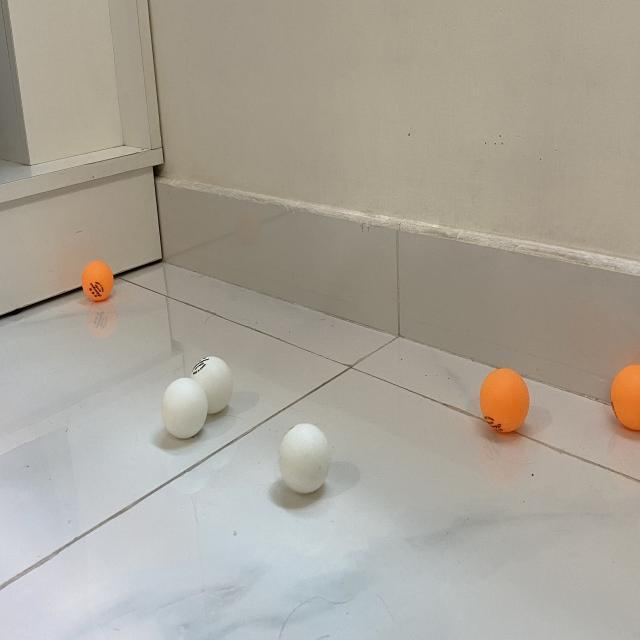ping-pong-ball: (478, 365, 534, 433), (280, 425, 331, 491), (163, 376, 208, 439), (189, 358, 233, 414), (610, 362, 640, 430), (82, 258, 115, 302)
